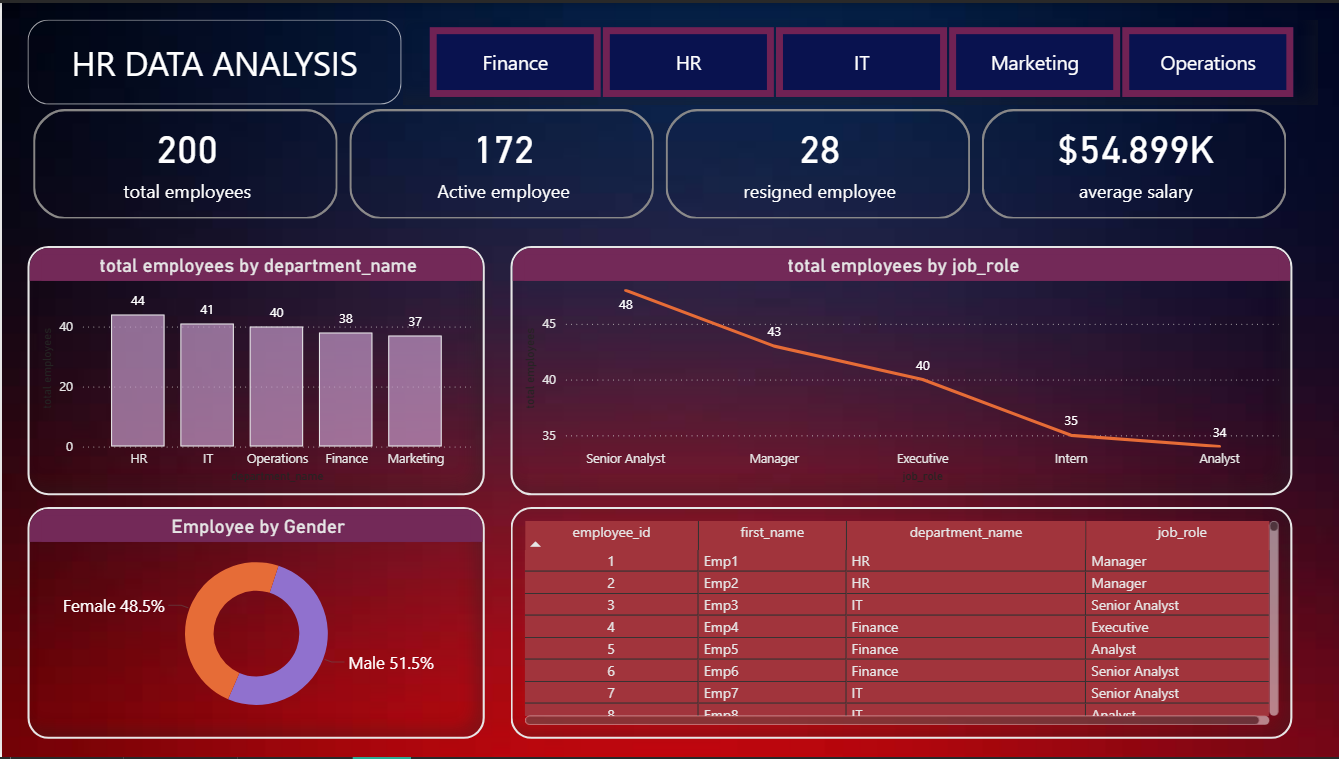

The dashboard page shown, as its layout file describes it:
{"tool":"powerbi","page":{"name":"Page 1","canvas":[1280,720],"ordinal":0},"visuals":[{"type":"cardVisual","fields":{"Data":["employee_data.total employees","employee_data.Active employee","employee_data.resigned employee","employee_data.average salary"]},"box":[24.6,96.4,1207.6,115.3],"z":0},{"type":"columnChart","fields":{"Category":["department.department_name"],"Y":["employee_data.total employees"]},"box":[24.6,232.4,436.5,238.1],"z":1000},{"type":"donutChart","title":"Employee by Gender","fields":{"Category":["employee_data.gender"],"Y":["employee_data.total employees"]},"box":[24.6,481.9,436.5,221.1],"z":2000},{"type":"lineChart","fields":{"Category":["employee_data.job_role"],"Y":["employee_data.total employees"]},"box":[485.7,232.4,746.5,238.1],"z":3000},{"type":"tableEx","fields":{"Values":["employee_data.employee_id","employee_data.first_name","department.department_name","employee_data.job_role"]},"box":[485.7,481.9,746.5,221.1],"z":4000},{"type":"slicer","fields":{"Values":["department.department_name"]},"box":[381.7,15.1,875,81.3],"z":5000},{"type":"shape","box":[24.6,15.1,357.2,81.3],"z":6000}]}

Visuals, with their boxes in screenshot pixels (x1, y1, x2, y2), scaled from the page's 1280x720 canvas onto the 1339x759 screenshot:
cardVisual - employee_data.total employees x employee_data.Active employee: left=26, top=102, right=1289, bottom=223
columnChart - department.department_name x employee_data.total employees: left=26, top=245, right=482, bottom=496
"Employee by Gender" donutChart: left=26, top=508, right=482, bottom=741
lineChart - employee_data.job_role x employee_data.total employees: left=508, top=245, right=1289, bottom=496
tableEx - employee_data.employee_id x employee_data.first_name: left=508, top=508, right=1289, bottom=741
slicer - department.department_name: left=399, top=16, right=1315, bottom=102
shape: left=26, top=16, right=399, bottom=102
